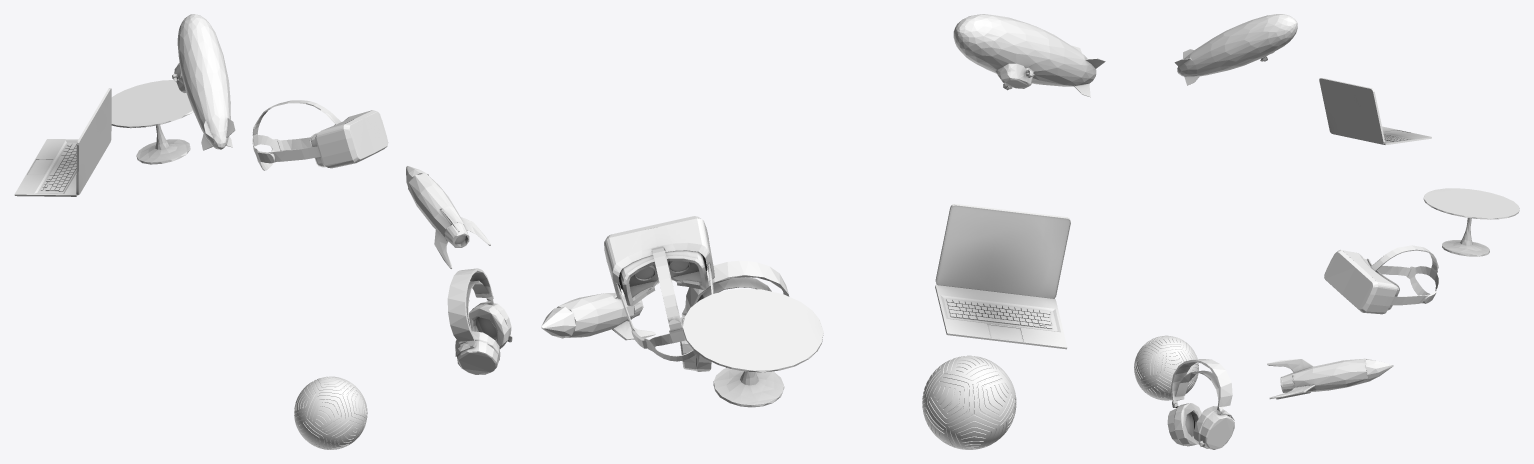
3 renders of one model, left to right at view 1: azimuth 30°, elevation 25°; view 2: azimuth 150°, elevation 25°; view 3: azimuth 270°, elevation 25°, orthographic. The views are drawn at different scales.
Parts seen in each view (by area): view 1: Zeppelin, VR Headset, Headphones, Notebook, Ball, Table, Rocket; view 2: Notebook, Table, VR Headset, Zeppelin, Ball, Rocket, Headphones; view 3: VR Headset, Zeppelin, Headphones, Notebook, Table, Rocket, Ball.
Part boxes in pixels (x1,y1,x2,y2): Zeppelin: (172, 14, 235, 150); VR Headset: (252, 100, 388, 170); Headphones: (447, 268, 512, 374); Notebook: (14, 88, 111, 196); Ball: (294, 376, 367, 449); Table: (111, 80, 193, 164); Rocket: (406, 166, 490, 268); Notebook: (935, 204, 1070, 349); Table: (683, 288, 823, 407); VR Headset: (604, 216, 714, 361); Zeppelin: (953, 14, 1105, 97); Ball: (922, 355, 1016, 449); Rocket: (541, 292, 655, 340); Headphones: (680, 260, 789, 371); VR Headset: (1324, 245, 1438, 314); Zeppelin: (1174, 14, 1297, 85); Headphones: (1167, 359, 1234, 449); Notebook: (1319, 78, 1431, 145); Table: (1423, 188, 1519, 256); Rocket: (1267, 358, 1393, 399); Ball: (1134, 335, 1198, 400).
Size of the model in its own units: 21.61 by 19.77 by 19.62.
Materials: 7 (6 with a texture image).
